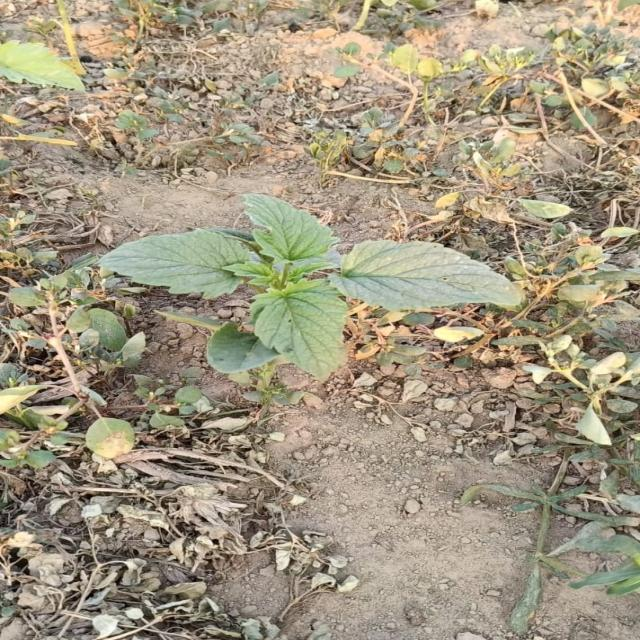plant: (99, 194, 523, 399)
